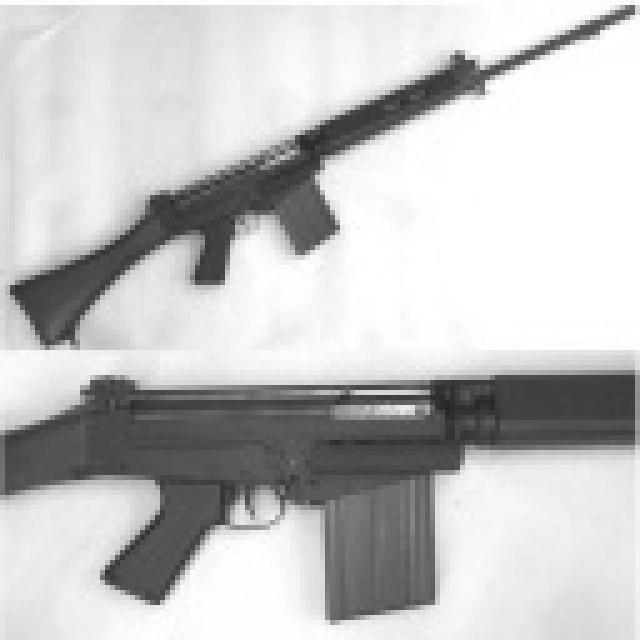Rifle: (0, 0, 640, 350), (0, 369, 640, 640)
